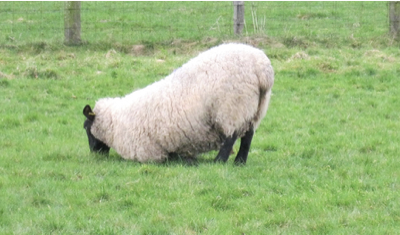koyun: (82, 42, 274, 172)
